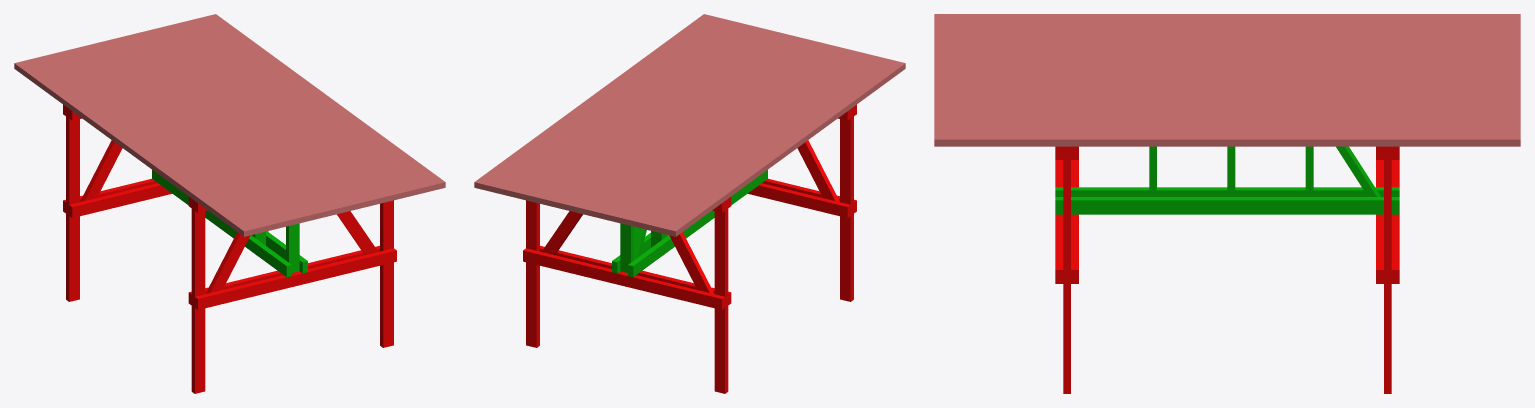
Rendered from result?data=false.glb.
The picture shows the model from 3 angles, left to right: view 1: azimuth 30°, elevation 25°; view 2: azimuth 150°, elevation 25°; view 3: azimuth 270°, elevation 25°; orthographic projection. The views are drawn at different scales.
Visible parts, largest first — view 1: 1f4699b3-3edd-4998-bf14-57ad94cf7b2a__Box, 40b25bbd-5b0d-4e38-ba13-4c763ba0a727__sideH, 09a261ba-6e97-45d9-be62-fa1809f0e8f1__sideV, 57464d96-a2a8-4491-b8a9-f3440f9fa7f8__undefined, e5ee2a0a-31e8-4d48-8a01-b1d4fca80245__undefined, c7c1873c-e635-48c5-bae6-97d0a5dc9d42__undefined, 0590aedc-9624-49e7-adc7-5110422b90ba__undefined, b5d9aede-d83a-4a04-b2e2-af1872853de4__undefined, 9d40037d-35be-4306-a14f-506efbc00157__undefined, febe6b9e-2b2f-4e39-93c9-226115d9c546__undefined, b831d75f-114f-4ae6-9310-5eba427a3862__undefined, e3aa9b7b-03ec-4626-b171-b3e5b3ea6c83__undefined (+20 smaller); view 2: 1f4699b3-3edd-4998-bf14-57ad94cf7b2a__Box, 76fa7bfa-58a7-47a4-9aa5-63d787c74b93__undefined, e69de1ef-33f4-4d08-992f-e25ea437e447__undefined, 57464d96-a2a8-4491-b8a9-f3440f9fa7f8__undefined, e5ee2a0a-31e8-4d48-8a01-b1d4fca80245__undefined, c7c1873c-e635-48c5-bae6-97d0a5dc9d42__undefined, 0590aedc-9624-49e7-adc7-5110422b90ba__undefined, b5d9aede-d83a-4a04-b2e2-af1872853de4__undefined, 9d40037d-35be-4306-a14f-506efbc00157__undefined, febe6b9e-2b2f-4e39-93c9-226115d9c546__undefined, b831d75f-114f-4ae6-9310-5eba427a3862__undefined, e3aa9b7b-03ec-4626-b171-b3e5b3ea6c83__undefined (+19 smaller); view 3: b10d21d0-80b6-4d2c-aca4-f620fd99d3bc__undefined, 16335400-a626-4306-a35f-b124c26e53ec__strutH, e5ee2a0a-31e8-4d48-8a01-b1d4fca80245__undefined, 0590aedc-9624-49e7-adc7-5110422b90ba__undefined, b5d9aede-d83a-4a04-b2e2-af1872853de4__undefined, c7c1873c-e635-48c5-bae6-97d0a5dc9d42__undefined, 20e2d03e-29e0-4e87-a119-1e399bdfd76d__undefined, 1f4699b3-3edd-4998-bf14-57ad94cf7b2a__Box, 9d40037d-35be-4306-a14f-506efbc00157__undefined, af6cd4ce-e24e-4efd-9571-5ef3cdc27ebb__undefined, b831d75f-114f-4ae6-9310-5eba427a3862__undefined, e3aa9b7b-03ec-4626-b171-b3e5b3ea6c83__undefined (+16 smaller).
Part boxes in pixels (x1,y1,x2,y2): 1f4699b3-3edd-4998-bf14-57ad94cf7b2a__Box: (14,60,254,236); 40b25bbd-5b0d-4e38-ba13-4c763ba0a727__sideH: (195,248,396,309); 09a261ba-6e97-45d9-be62-fa1809f0e8f1__sideV: (191,199,205,393); 57464d96-a2a8-4491-b8a9-f3440f9fa7f8__undefined: (110,37,350,213); e5ee2a0a-31e8-4d48-8a01-b1d4fca80245__undefined: (25,58,265,234); c7c1873c-e635-48c5-bae6-97d0a5dc9d42__undefined: (163,24,403,200); 0590aedc-9624-49e7-adc7-5110422b90ba__undefined: (78,45,318,221); b5d9aede-d83a-4a04-b2e2-af1872853de4__undefined: (131,32,371,208); 9d40037d-35be-4306-a14f-506efbc00157__undefined: (36,55,275,231); febe6b9e-2b2f-4e39-93c9-226115d9c546__undefined: (195,16,434,192); b831d75f-114f-4ae6-9310-5eba427a3862__undefined: (57,50,296,226); e3aa9b7b-03ec-4626-b171-b3e5b3ea6c83__undefined: (67,47,307,223); 1f4699b3-3edd-4998-bf14-57ad94cf7b2a__Box: (665,60,905,236); 76fa7bfa-58a7-47a4-9aa5-63d787c74b93__undefined: (523,248,724,309); e69de1ef-33f4-4d08-992f-e25ea437e447__undefined: (714,199,728,393); 57464d96-a2a8-4491-b8a9-f3440f9fa7f8__undefined: (569,37,809,213); e5ee2a0a-31e8-4d48-8a01-b1d4fca80245__undefined: (654,58,894,234); c7c1873c-e635-48c5-bae6-97d0a5dc9d42__undefined: (516,24,756,200); 0590aedc-9624-49e7-adc7-5110422b90ba__undefined: (601,45,841,221); b5d9aede-d83a-4a04-b2e2-af1872853de4__undefined: (548,32,788,208); 9d40037d-35be-4306-a14f-506efbc00157__undefined: (644,55,883,231); febe6b9e-2b2f-4e39-93c9-226115d9c546__undefined: (485,16,724,192); b831d75f-114f-4ae6-9310-5eba427a3862__undefined: (623,50,862,226); e3aa9b7b-03ec-4626-b171-b3e5b3ea6c83__undefined: (612,47,852,223); b10d21d0-80b6-4d2c-aca4-f620fd99d3bc__undefined: (934,133,1520,146); 16335400-a626-4306-a35f-b124c26e53ec__strutH: (1055,197,1399,214); e5ee2a0a-31e8-4d48-8a01-b1d4fca80245__undefined: (934,20,1520,27); 0590aedc-9624-49e7-adc7-5110422b90ba__undefined: (934,53,1520,60); b5d9aede-d83a-4a04-b2e2-af1872853de4__undefined: (934,86,1520,93); c7c1873c-e635-48c5-bae6-97d0a5dc9d42__undefined: (934,106,1520,113); 20e2d03e-29e0-4e87-a119-1e399bdfd76d__undefined: (934,119,1520,126); 1f4699b3-3edd-4998-bf14-57ad94cf7b2a__Box: (934,14,1520,20); 9d40037d-35be-4306-a14f-506efbc00157__undefined: (934,27,1520,33); af6cd4ce-e24e-4efd-9571-5ef3cdc27ebb__undefined: (934,34,1520,40); b831d75f-114f-4ae6-9310-5eba427a3862__undefined: (934,40,1520,46); e3aa9b7b-03ec-4626-b171-b3e5b3ea6c83__undefined: (934,47,1520,53).
Bounding box in the file's own units: 760 × 720 × 1500.
